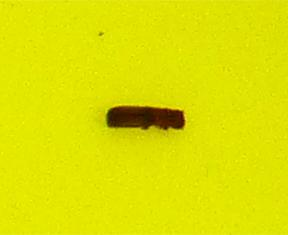Coleoptera: (100, 100, 188, 135)
